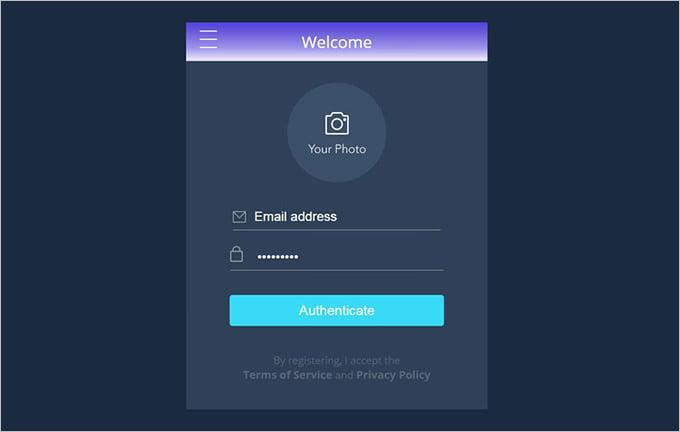button: (230, 296, 446, 327)
icon: (300, 36, 373, 52), (323, 111, 352, 139), (199, 28, 220, 52)
label: (307, 144, 371, 158)
